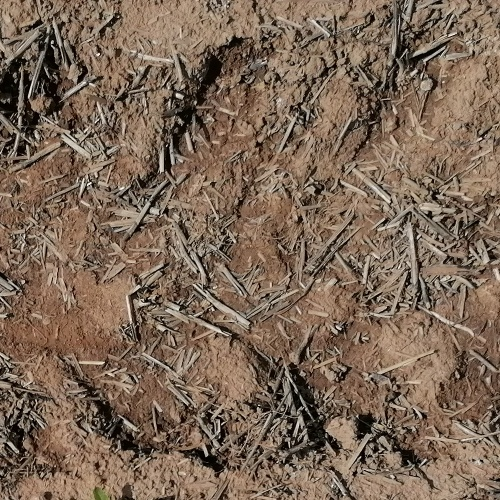beet: (91, 485, 116, 500)
